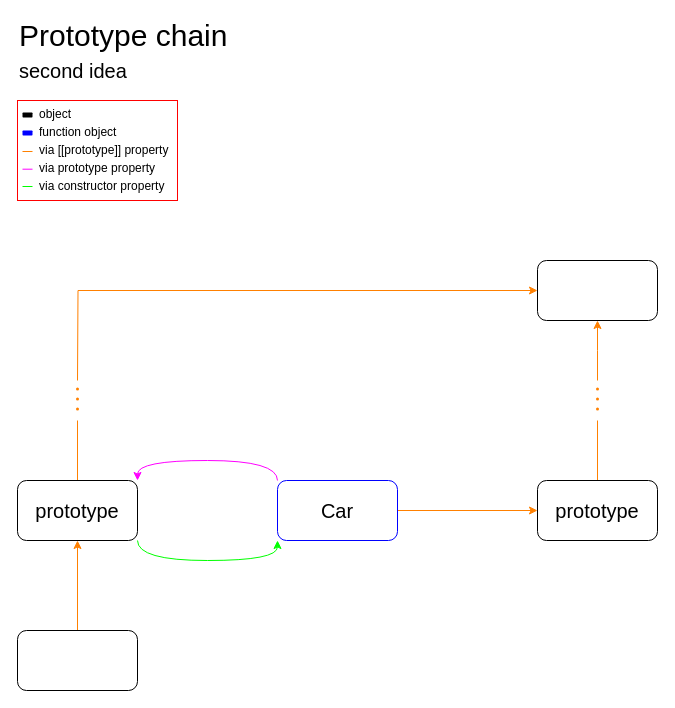
Some shapes in this 675 by 708 pixel diagram are drawn without their labels. Each missing label, with the centre of its shape:
"car1" goes at (77,660).
"null" goes at (597,290).
